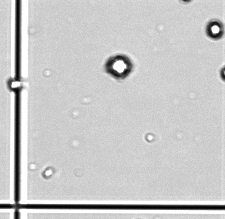Living Cell: (103, 50, 134, 80), (205, 18, 223, 40), (7, 76, 24, 92)
